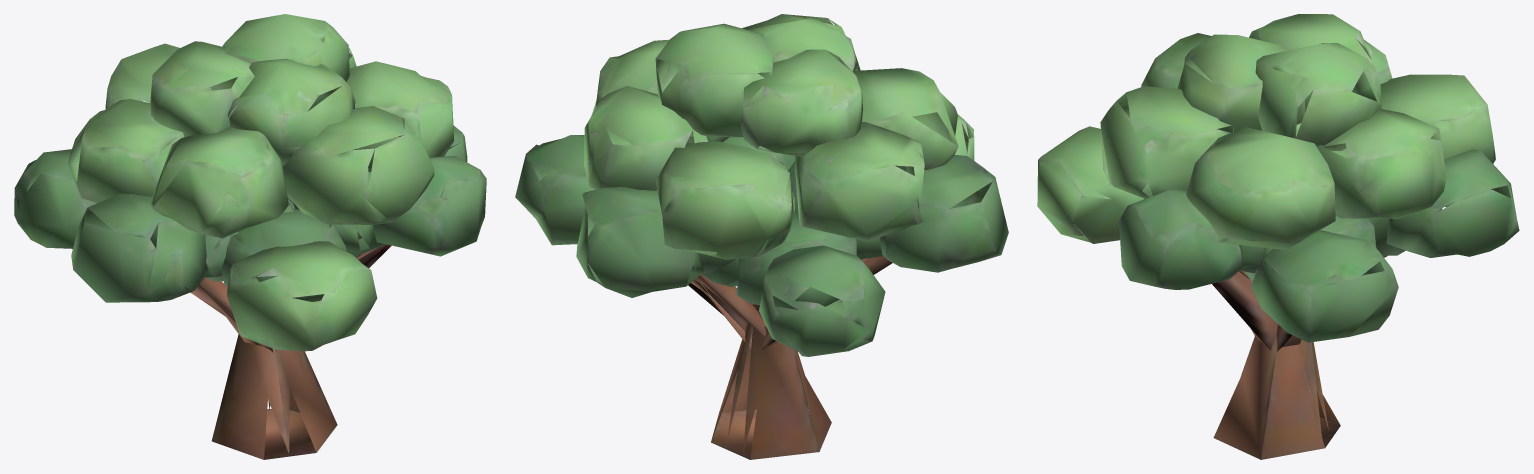
Rendered from tree.glb.
3 renders of one model, left to right at view 1: azimuth 30°, elevation 25°; view 2: azimuth 150°, elevation 25°; view 3: azimuth 270°, elevation 25°, orthographic. The views are drawn at different scales.
Visible parts, largest first — view 1: oak-tree_body; view 2: oak-tree_body; view 3: oak-tree_body.
Boxes of the visible parts, left/top/right/bottom form: oak-tree_body: left=14, top=14, right=486, bottom=459; oak-tree_body: left=515, top=14, right=1008, bottom=459; oak-tree_body: left=1037, top=14, right=1519, bottom=459.
Bounding box in the file's own units: 7.59 × 6.86 × 7.43.
Materials: 1 (1 with a texture image).
